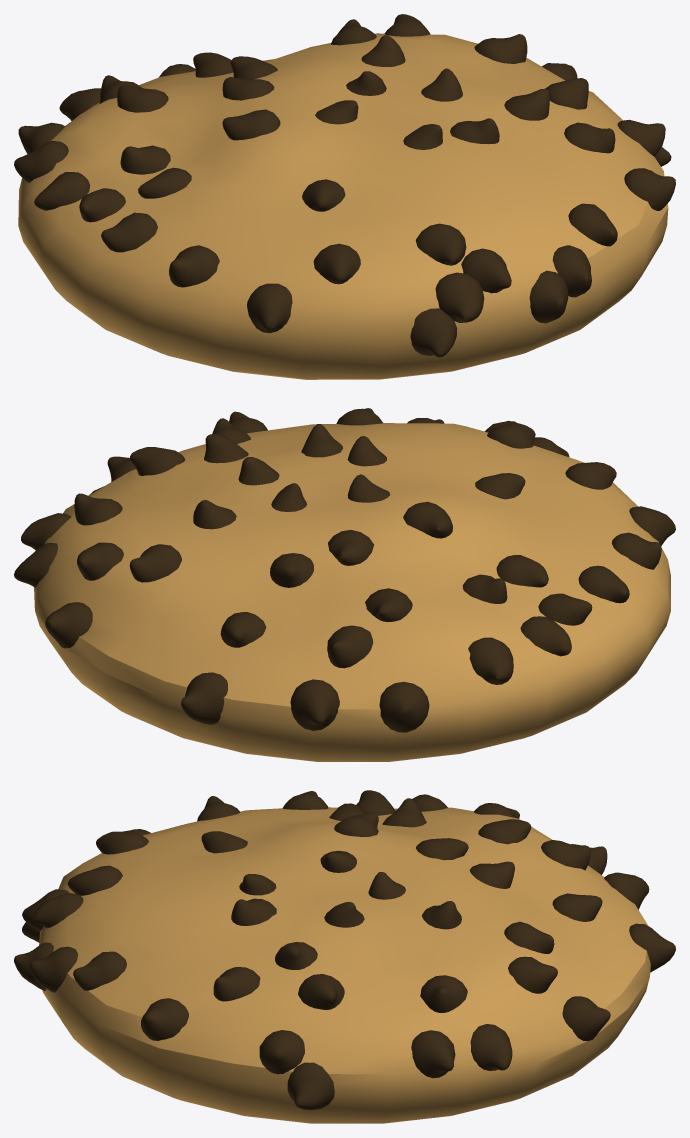
Rendered from BoardPieces_004.fbx.
3 views of the same model, one above another, from view 1: azimuth 30°, elevation 25°; view 2: azimuth 150°, elevation 25°; view 3: azimuth 270°, elevation 25° (orthographic). The views are drawn at different scales.
Parts seen in each view (by area): view 1: BoardPieces_004; view 2: BoardPieces_004; view 3: BoardPieces_004.
Part boxes in pixels (<box>): BoardPieces_004: <box>14,14,675,379</box>; BoardPieces_004: <box>14,408,675,761</box>; BoardPieces_004: <box>14,790,675,1123</box>.
Bounding box in the file's own units: 8.33 × 2.27 × 8.62.
